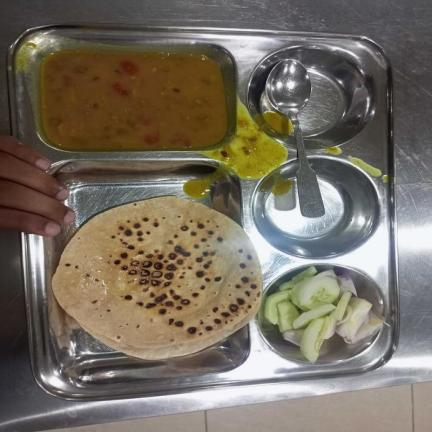Chana Dal: (41, 49, 230, 150)
Plate: (7, 23, 399, 402)
Roti: (50, 195, 264, 360)
Salad: (266, 266, 389, 362)
